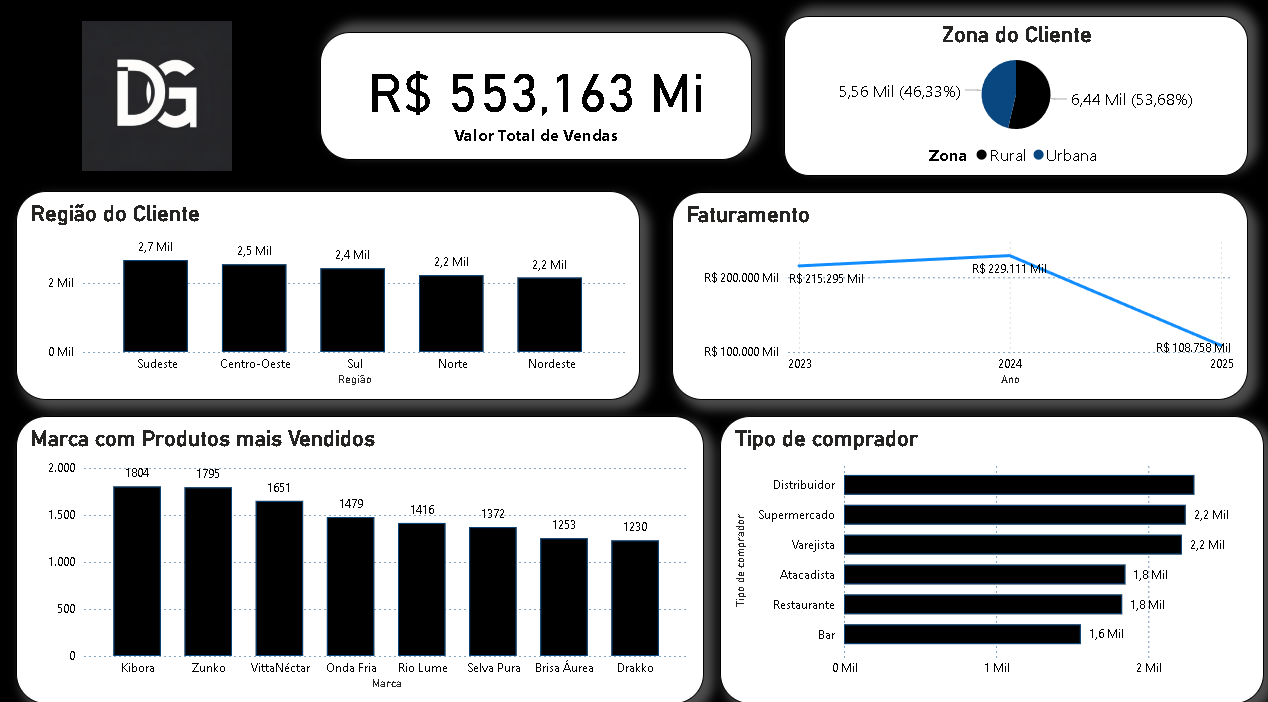

This screenshot's page, from the dashboard's own definition file:
{"tool":"powerbi","page":{"name":"Página 1","canvas":[1280,720],"ordinal":0},"visuals":[{"type":"columnChart","title":"Região do Cliente","fields":{"Category":["Dim_Comprador.Região"],"Y":["CountNonNull(Fato_Vendas_Atacado/Varejo.IdComprador)"]},"box":[16.2,191.1,623.4,208.9],"z":0},{"type":"pieChart","title":"Zona do Cliente","fields":{"Category":["Dim_Comprador.Zona"],"Y":["CountNonNull(Fato_Vendas_Atacado/Varejo.IdComprador)"]},"box":[784,16,464,160],"z":1000},{"type":"card","fields":{"Values":["Fato_Vendas_Atacado/Varejo.Valor Total de Vendas"]},"box":[320,32,432,128],"z":2000},{"type":"columnChart","title":" Marca com Produtos mais Vendidos","fields":{"Category":["Dim_Produtos.Marca"],"Y":["CountNonNull(Fato_Vendas_Atacado/Varejo.IdPedido)"]},"box":[16,416,688,288],"z":3000},{"type":"clusteredBarChart","title":"Tipo de comprador","fields":{"Category":["Dim_Comprador.Tipo de comprador"],"Y":["CountNonNull(Fato_Vendas_Atacado/Varejo.IdComprador)"]},"box":[720,416,544,288],"z":4000},{"type":"lineChart","title":"Faturamento","fields":{"Category":["Fato_Vendas_Atacado/Varejo.Data da venda.Variation.Hierarquia de datas.Ano"],"Y":["Fato_Vendas_Atacado/Varejo.Valor Total de Vendas"]},"box":[672,192,576,208],"z":5000},{"type":"image","box":[31.4,15.7,251,160.8],"z":6000}]}

Visuals, with their boxes in screenshot pixels (x1, y1, x2, y2), scaled from the page's 1280x720 canvas onto the 1268x702 screenshot:
"Região do Cliente" columnChart: (16, 186, 634, 390)
"Zona do Cliente" pieChart: (777, 16, 1236, 172)
card - Fato_Vendas_Atacado/Varejo.Valor Total de Vendas: (317, 31, 745, 156)
" Marca com Produtos mais Vendidos" columnChart: (16, 406, 697, 686)
"Tipo de comprador" clusteredBarChart: (713, 406, 1252, 686)
"Faturamento" lineChart: (666, 187, 1236, 390)
image: (31, 15, 280, 172)
